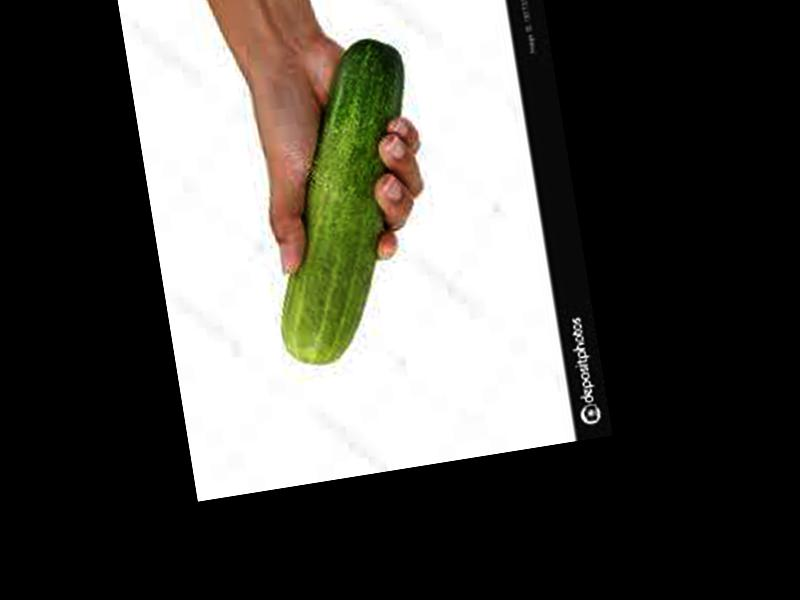Cucumber: (236, 34, 445, 368)
